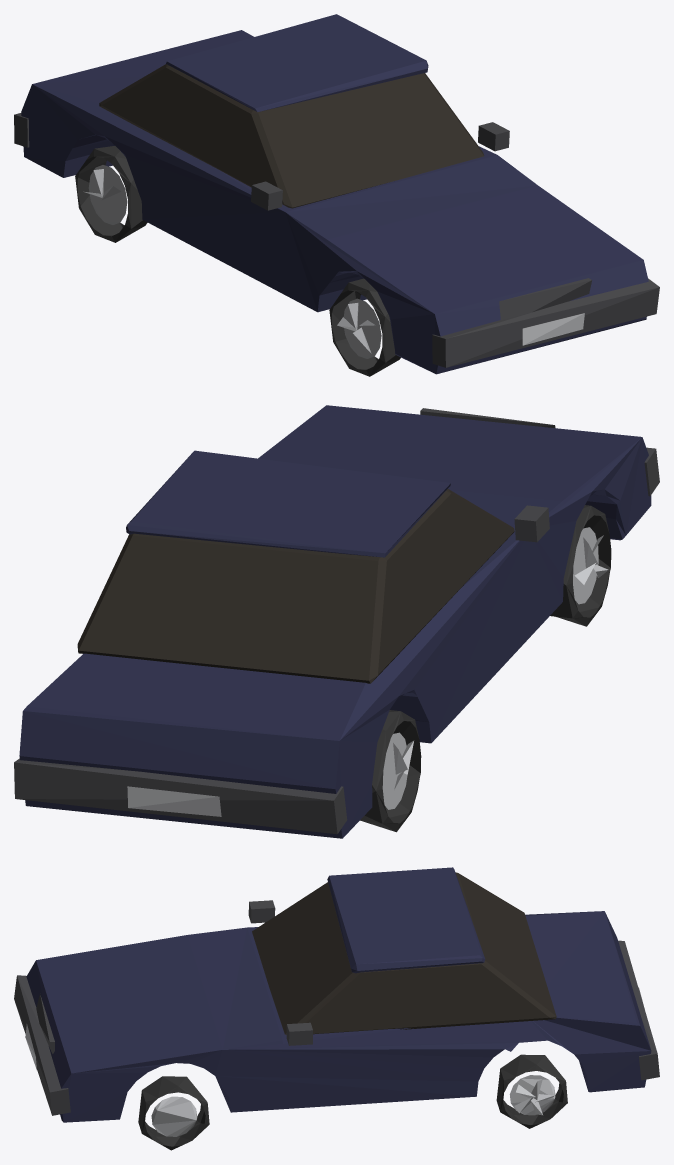
File: car-wreck-b-lod1.glb
3 views of the same model, one above another, from view 1: azimuth 30°, elevation 25°; view 2: azimuth 150°, elevation 25°; view 3: azimuth 270°, elevation 25° (orthographic). The views are drawn at different scales.
Bounding box in the file's own units: 2.47 × 1.48 × 4.81.
